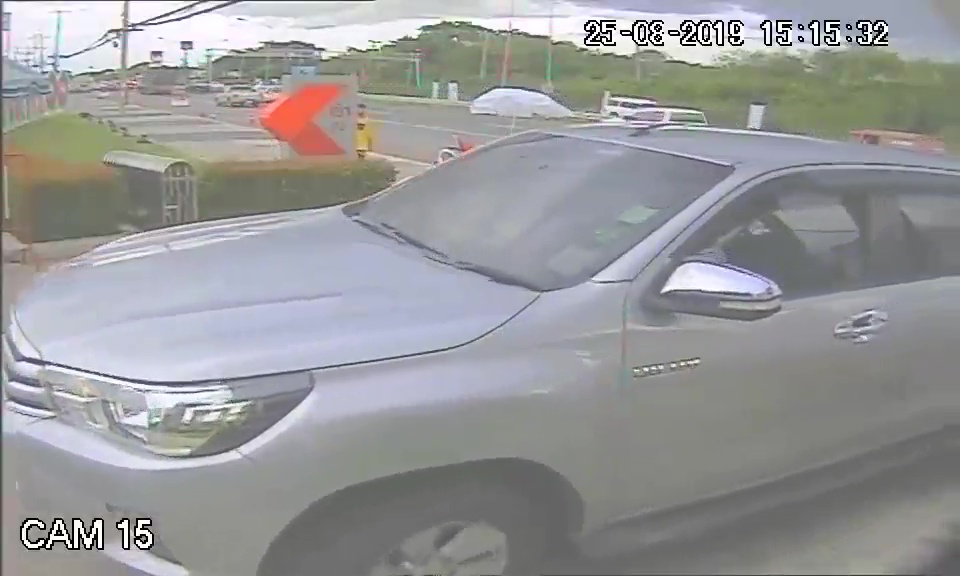pickup: (19, 111, 927, 527)
